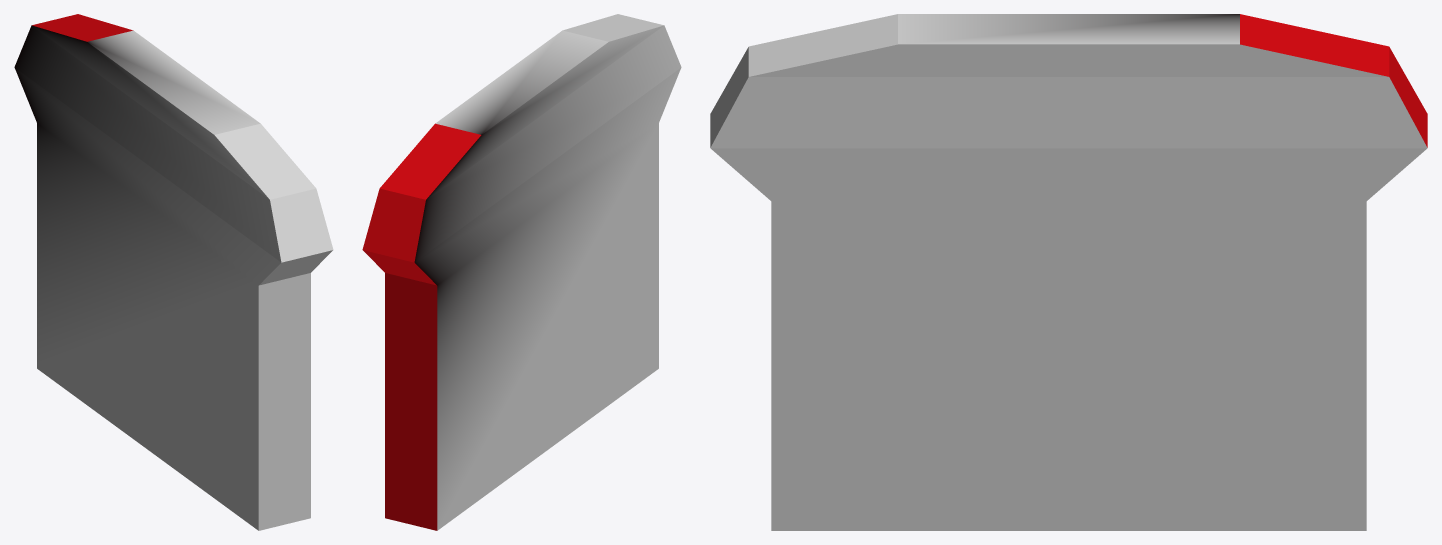
The model's file is bread.fbx.
3 views of the same model, side by side, from view 1: azimuth 30°, elevation 25°; view 2: azimuth 150°, elevation 25°; view 3: azimuth 270°, elevation 25° (orthographic). The views are drawn at different scales.
Visible parts, largest first — view 1: Cube.026; view 2: Cube.026; view 3: Cube.026.
Part boxes in pixels (bbox=[...]): Cube.026: bbox=[14, 14, 333, 530]; Cube.026: bbox=[362, 14, 681, 530]; Cube.026: bbox=[710, 14, 1427, 530].
Bounding box in the file's own units: 7.26 × 64.49 × 48.07.
